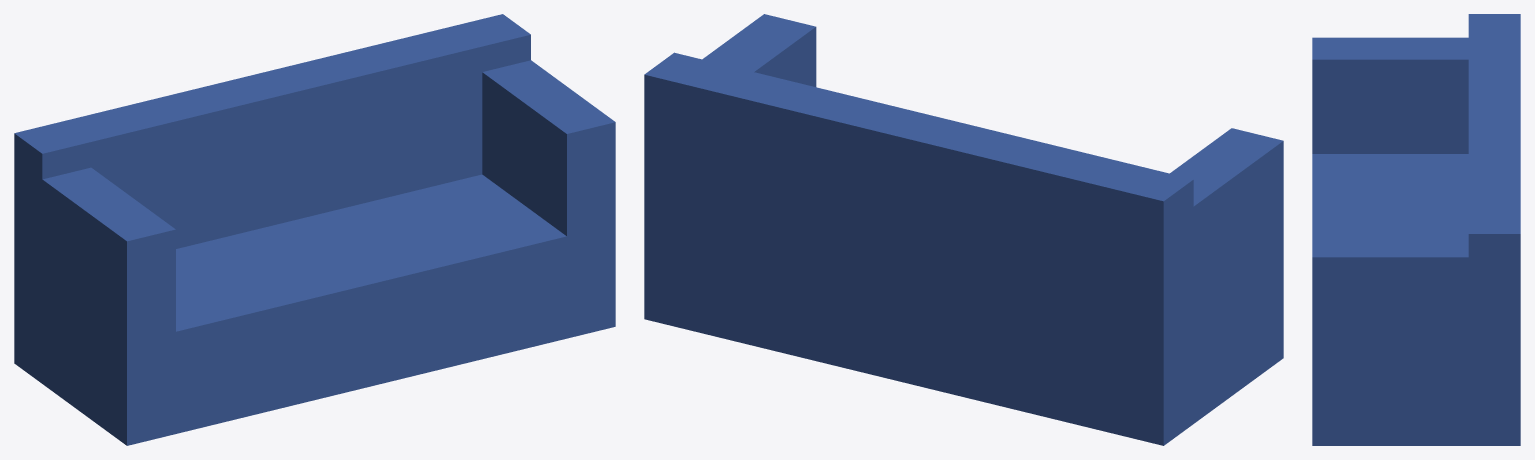
Rendered from sofa.glb.
3 renders of one model, left to right at view 1: azimuth 30°, elevation 25°; view 2: azimuth 150°, elevation 25°; view 3: azimuth 270°, elevation 25°, orthographic. The views are drawn at different scales.
Bounding box in the file's own units: 2 × 0.9 × 0.8.
